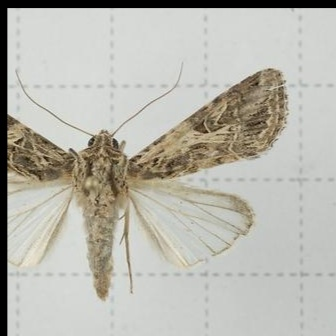Spodoptera litura: (8, 61, 288, 302)
